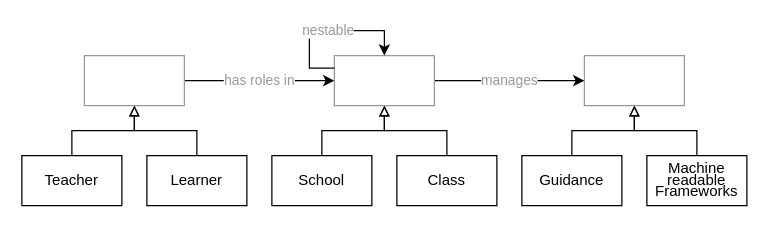
This 769x235 diagram has some shape labels left out. The shapes that lost their labels are listed below. From the top down, each one's box as (x1, y1, x2, y2) in pixels, then its label:
(83, 54, 184, 106): Person
(333, 54, 434, 106): Group
(583, 54, 684, 106): Media
